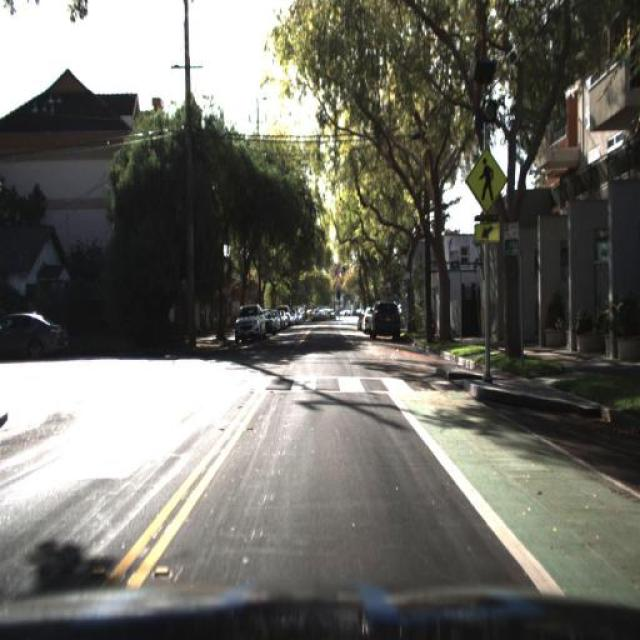car: (0, 309, 66, 365), (368, 296, 399, 345), (369, 297, 402, 339), (232, 302, 266, 342)
